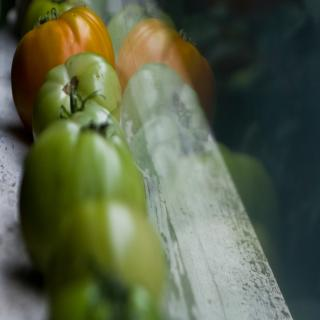tomato: (47, 197, 168, 298), (12, 10, 116, 124), (115, 16, 218, 122), (31, 50, 121, 143)
